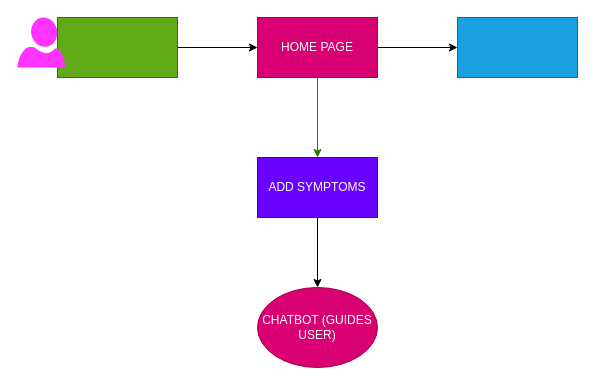
Some shapes in this 595 by 385 pixel diagram are drawn without their labels. Each missing label, with the box of its shape:
HELP (ASK FOR HELP FROM NEARBY USER): (456, 16, 578, 78)
LOGIN/ SIGN UP: (56, 16, 178, 78)
